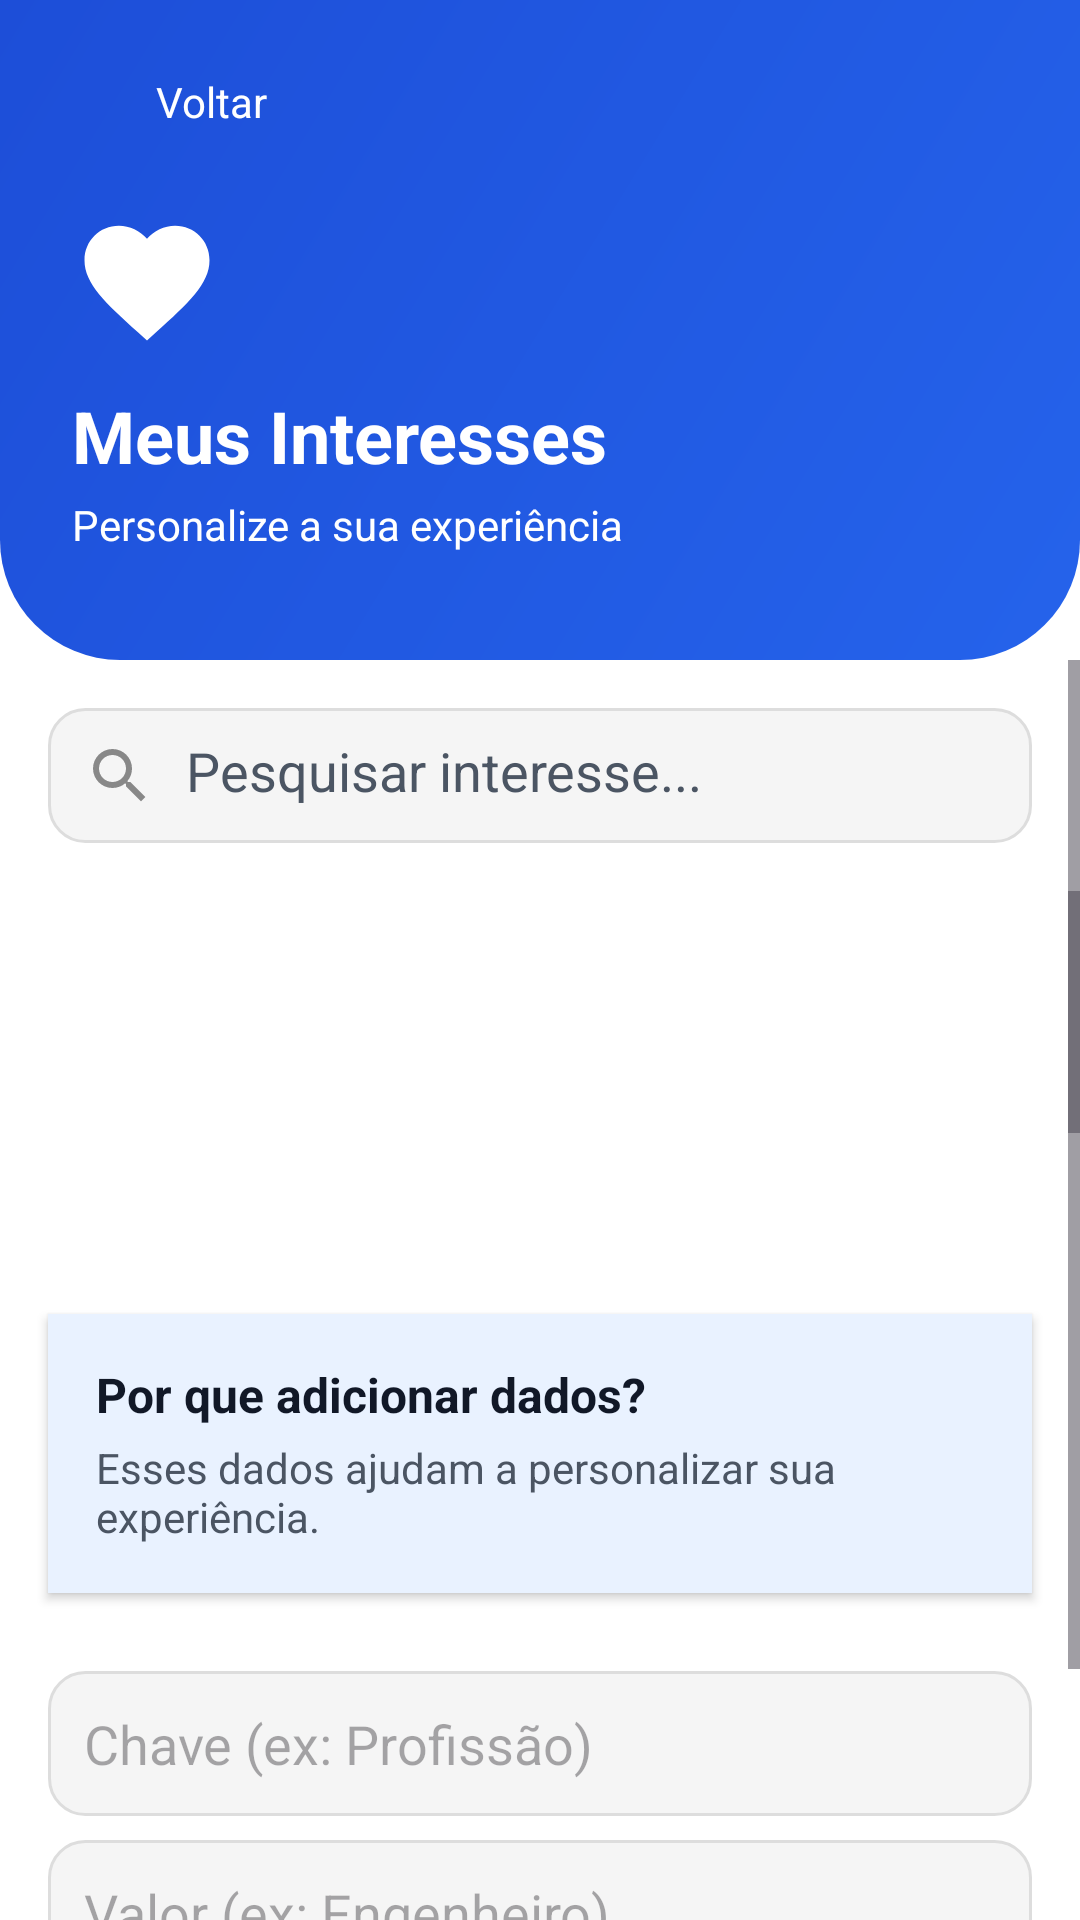

Where icons sit on this 1080 × 1920 app screen, as {"left": x1, "top": y1, "right": x2, "bottom": y2}:
heart: {"left": 84, "top": 225, "right": 210, "bottom": 341}
